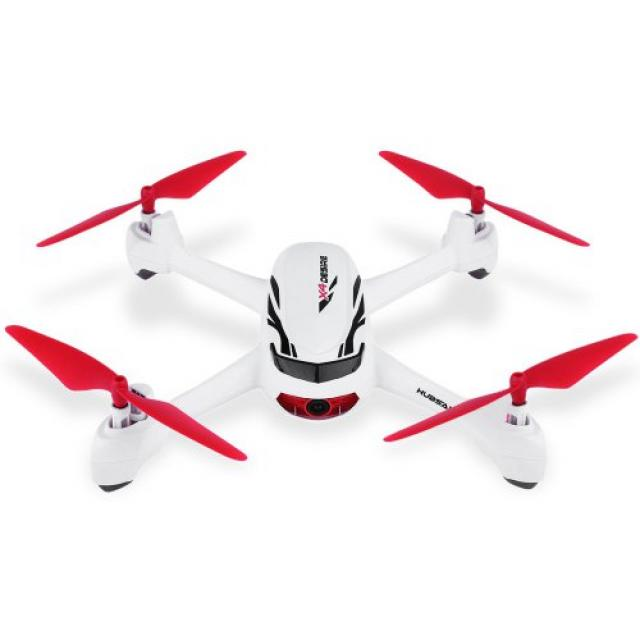drones: (4, 132, 640, 495)
